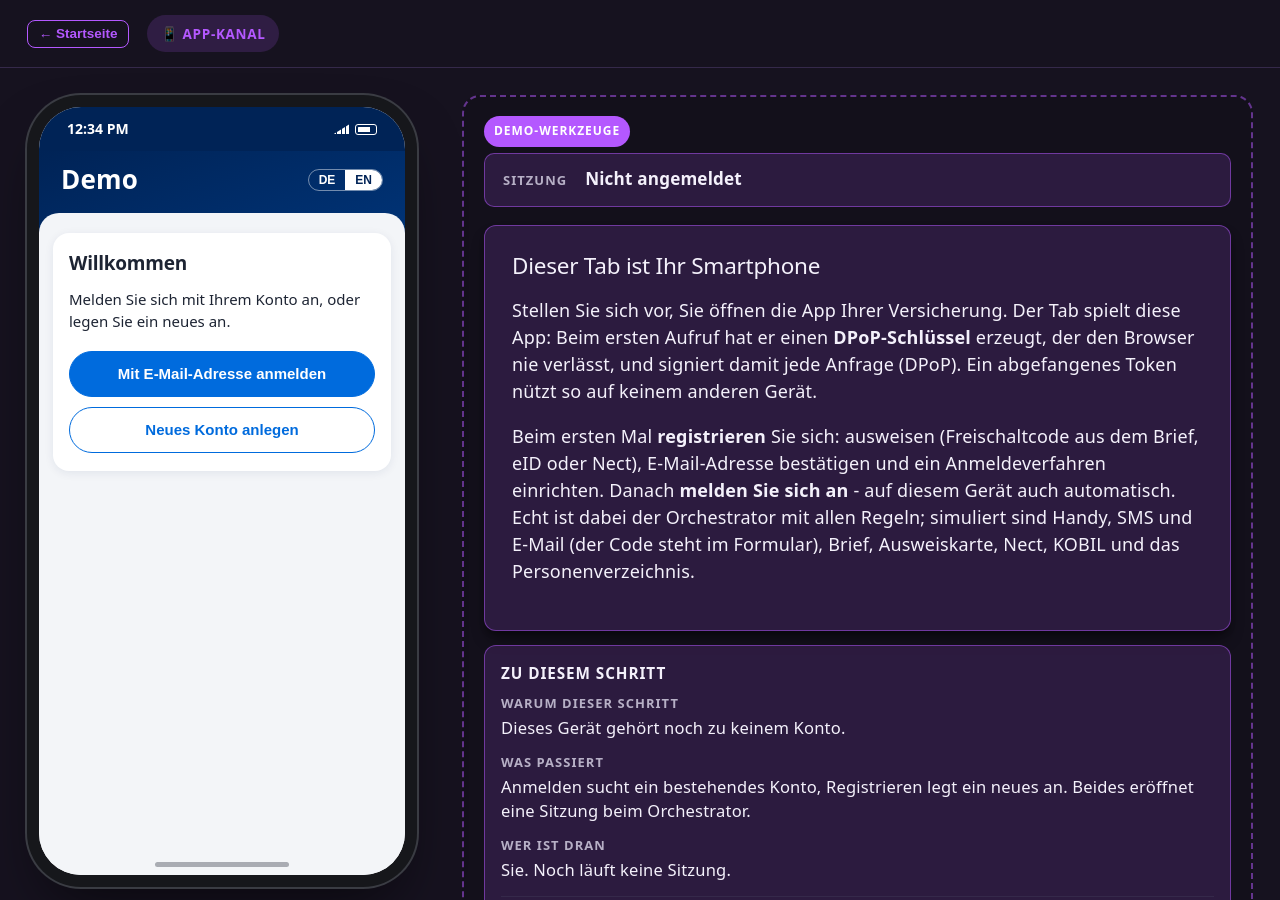
Scenario: security-summary backfill (docs/05-api.md #2: on-demand, not part of tool responses) › fetches currentAcr/currentAmr/activeMethods once, only after settling into authenticated
This screenshot has width=1280, height=900.
Click the button "Neues Konto anlegen". click: (222, 430)
box: [69,407,375,453]
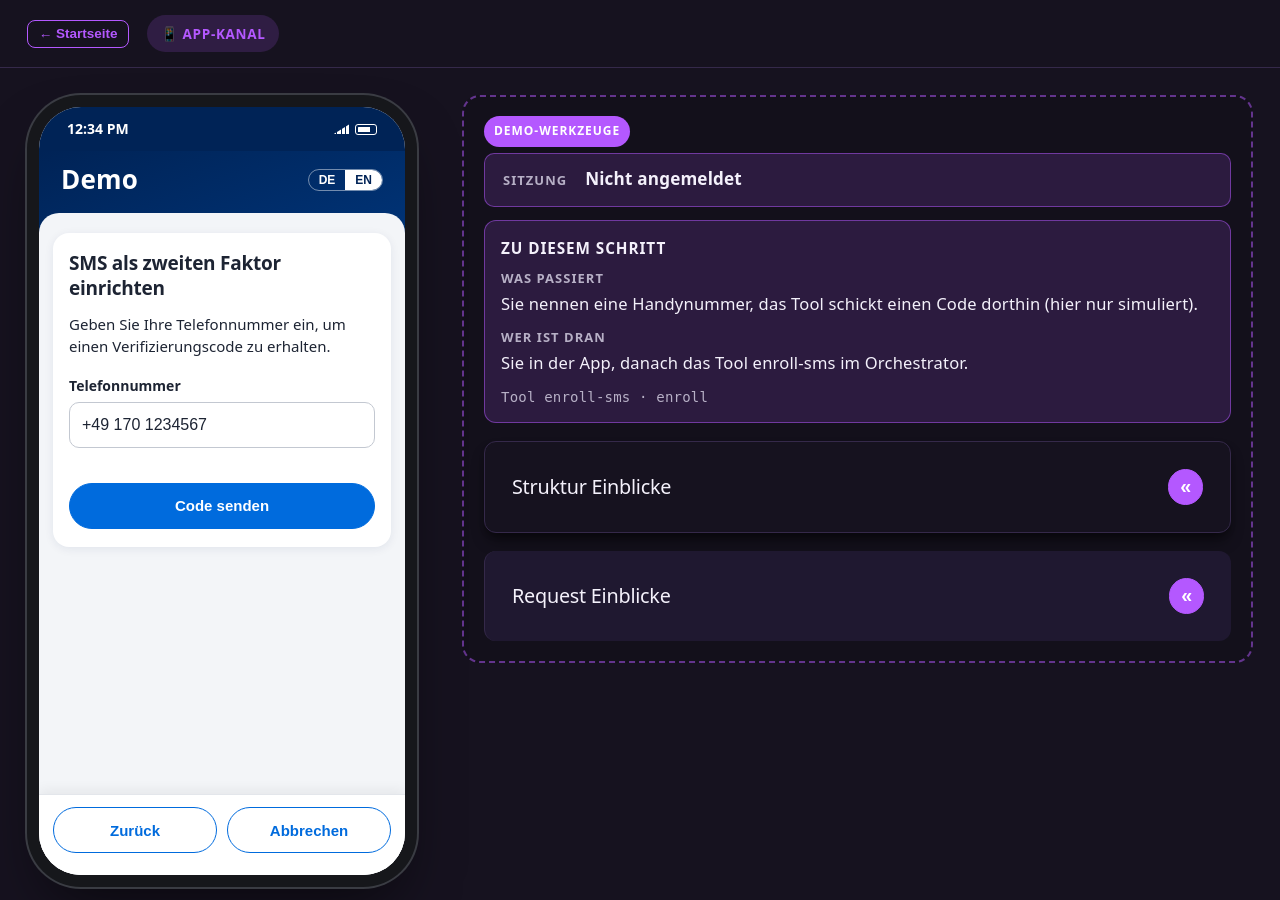
Click the button "Code senden". click: (222, 506)
box: [69,483,375,529]
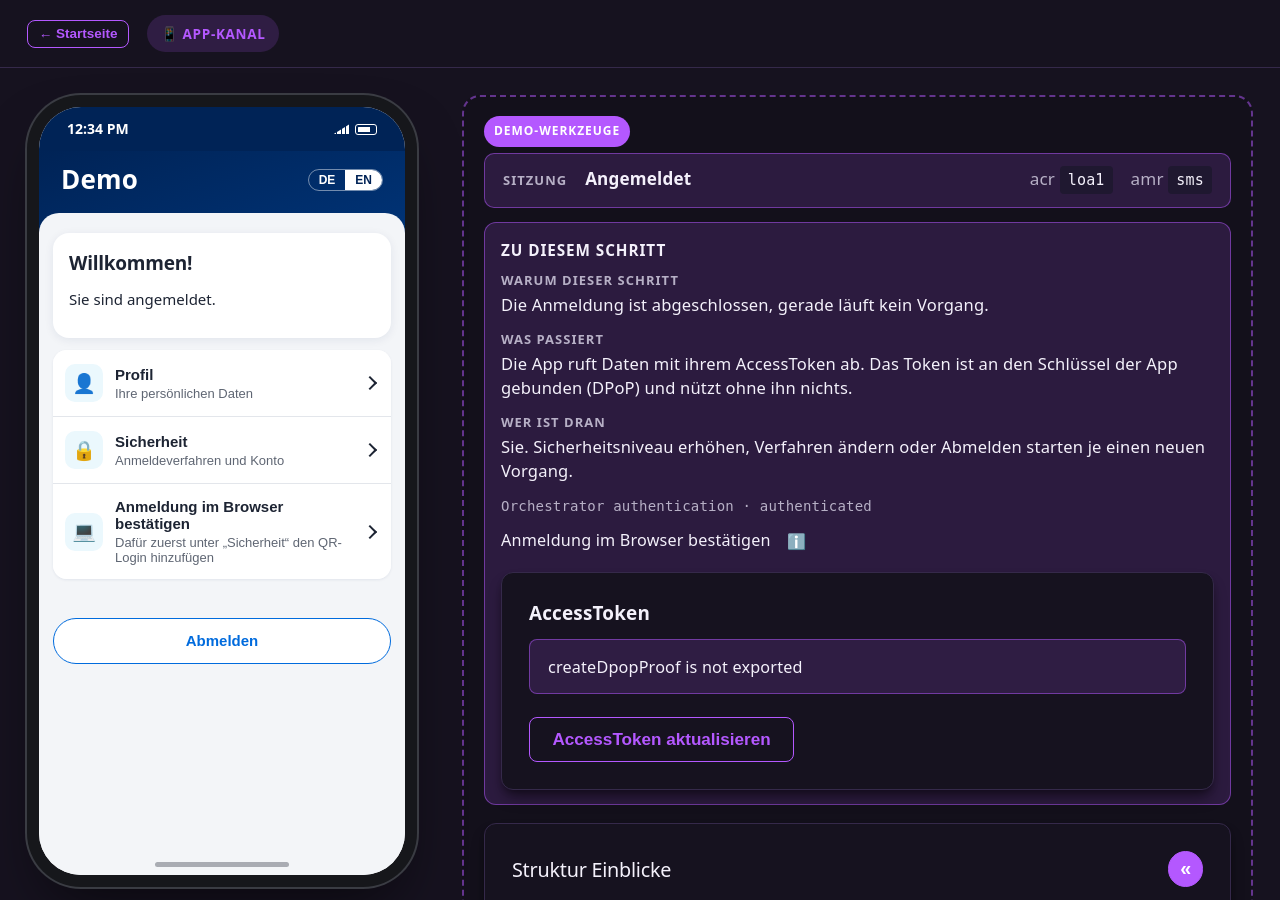
// Level and methods live on the security screen, one tap from the welcome.
Click the button "🔒 Sicherheit Anmeldeverfahren und Konto". click: (222, 450)
box: [53,417,391,483]
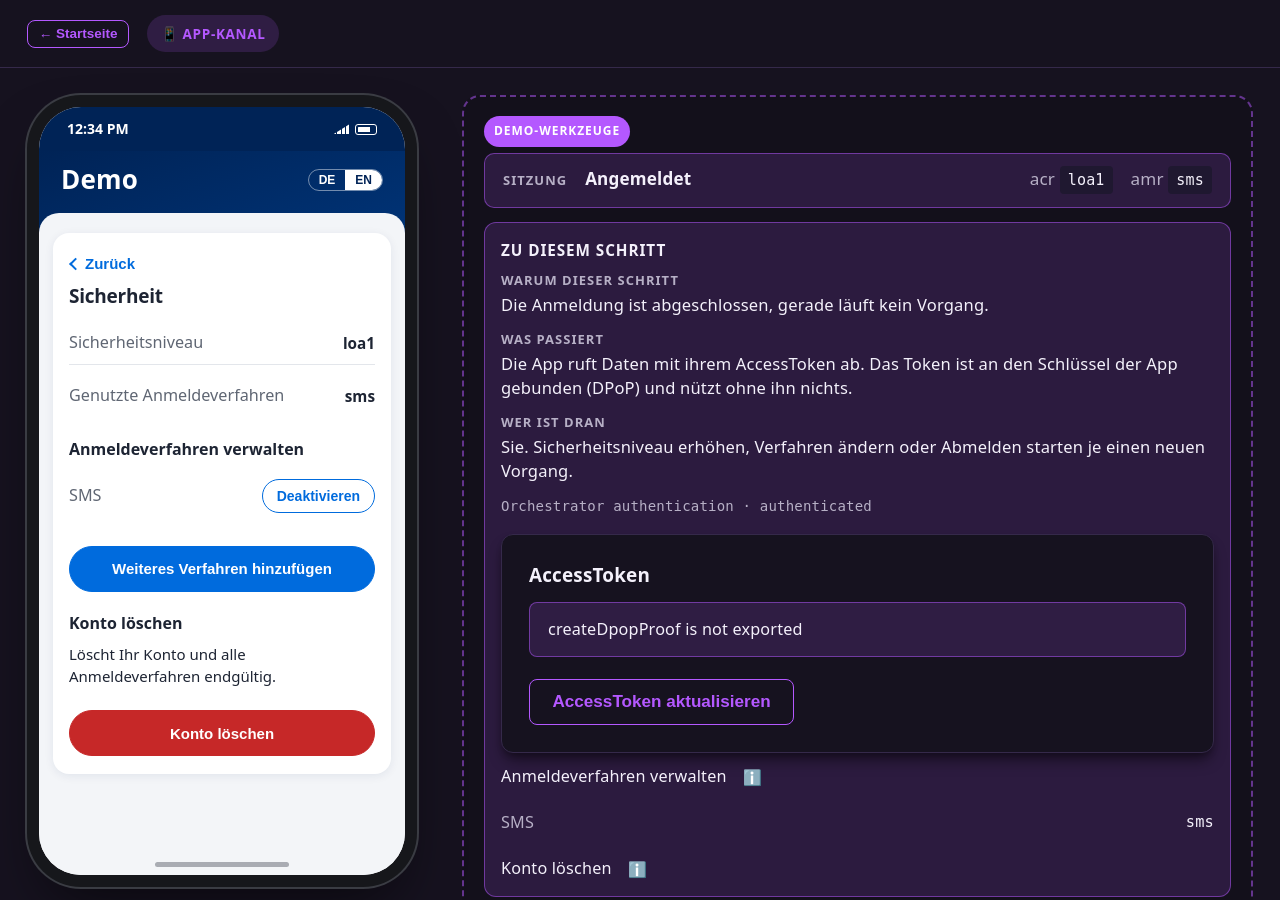
Check: the text "loa1" below "12:34 PM" is shown, box [343,332,375,352]
Check: the button "Deaktivieren" is shown, box [262,479,375,513]
